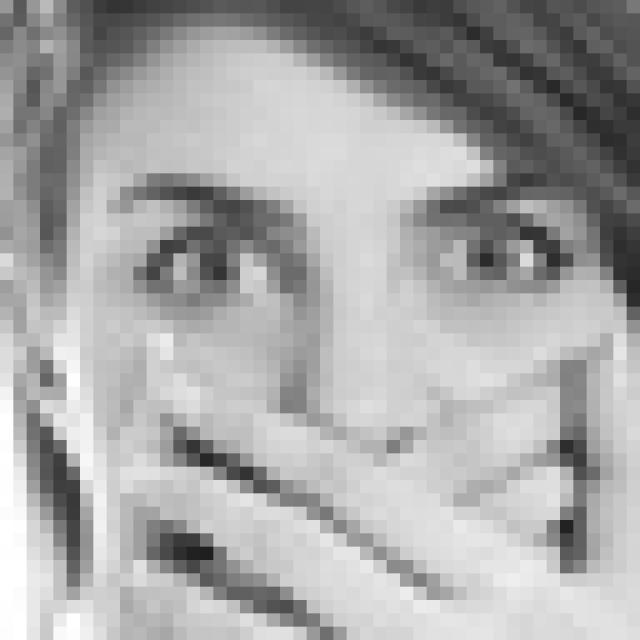fear: (93, 161, 589, 604)
